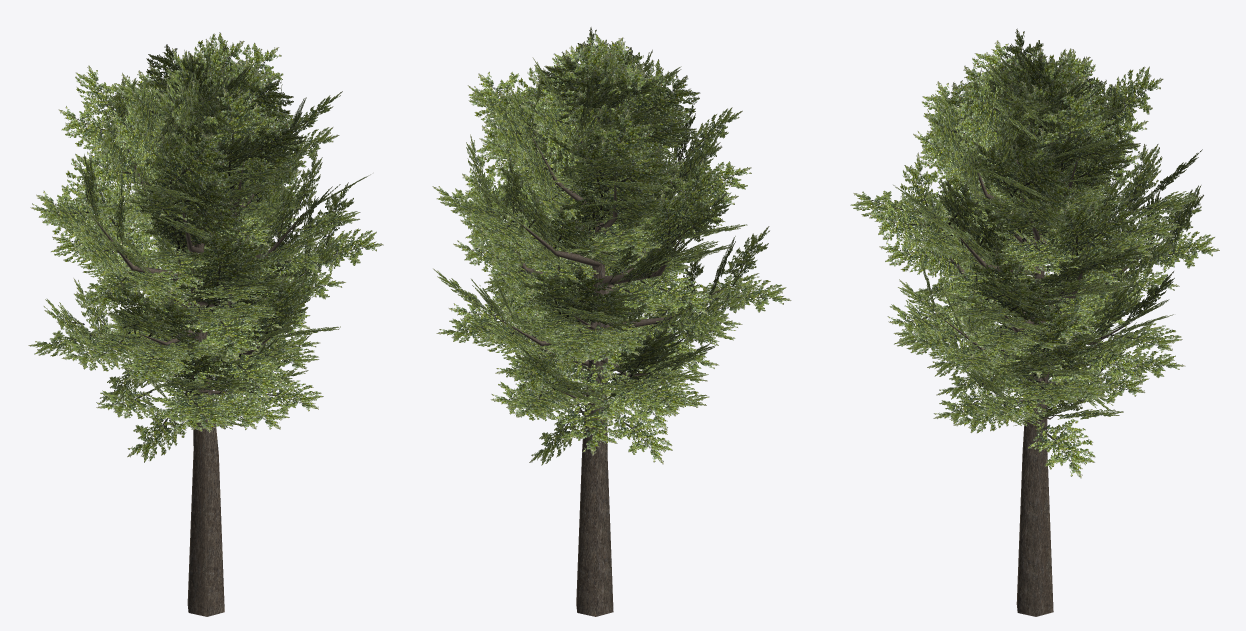
Rendered from TreeCh.fbx.
The picture shows the model from 3 angles, left to right: view 1: azimuth 30°, elevation 25°; view 2: azimuth 150°, elevation 25°; view 3: azimuth 270°, elevation 25°; orthographic projection.
Visible parts, largest first — view 1: Ch_Leaf2, Ch_Leaf4, Ch_Leaf3, Ch_Leaf4_2, Ch_Leaf3_2, Ch_Leaf2_2, Ch_Trunk, Ch_Leaf1, Ch_Leaf1_2; view 2: Ch_Leaf1, Ch_Leaf2_2, Ch_Leaf2, Ch_Leaf1_2, Ch_Leaf4, Ch_Trunk, Ch_Leaf4_2, Ch_Leaf3, Ch_Leaf3_2; view 3: Ch_Leaf1_2, Ch_Leaf1, Ch_Leaf3, Ch_Leaf3_2, Ch_Leaf4, Ch_Leaf2, Ch_Trunk, Ch_Leaf4_2, Ch_Leaf2_2.
Boxes of the visible parts, box(x1,y1,x2,y2) form: Ch_Leaf2: box(28, 44, 234, 462); Ch_Leaf4: box(84, 76, 291, 433); Ch_Leaf3: box(168, 59, 383, 429); Ch_Leaf4_2: box(85, 72, 291, 434); Ch_Leaf3_2: box(169, 62, 383, 430); Ch_Leaf2_2: box(28, 44, 234, 462); Ch_Trunk: box(90, 128, 317, 616); Ch_Leaf1: box(96, 32, 317, 428); Ch_Leaf1_2: box(104, 36, 316, 429); Ch_Leaf1: box(432, 43, 625, 465); Ch_Leaf2_2: box(521, 53, 747, 464); Ch_Leaf2: box(521, 48, 746, 463); Ch_Leaf1_2: box(432, 44, 622, 464); Ch_Leaf4: box(571, 51, 791, 386); Ch_Trunk: box(491, 113, 724, 616); Ch_Leaf4_2: box(580, 50, 788, 386); Ch_Leaf3: box(462, 27, 679, 382); Ch_Leaf3_2: box(462, 32, 678, 381); Ch_Leaf1_2: box(983, 52, 1202, 478); Ch_Leaf1: box(983, 52, 1202, 478); Ch_Leaf3: box(888, 62, 1054, 432); Ch_Leaf3_2: box(887, 62, 1056, 433); Ch_Leaf4: box(851, 28, 1036, 381); Ch_Leaf2: box(989, 40, 1219, 406); Ch_Trunk: box(919, 120, 1158, 616); Ch_Leaf4_2: box(850, 33, 1048, 381); Ch_Leaf2_2: box(989, 43, 1219, 407).
Bounding box in the file's own units: 0.0573 × 0.096 × 0.0611.
2 materials, 2 textured.
